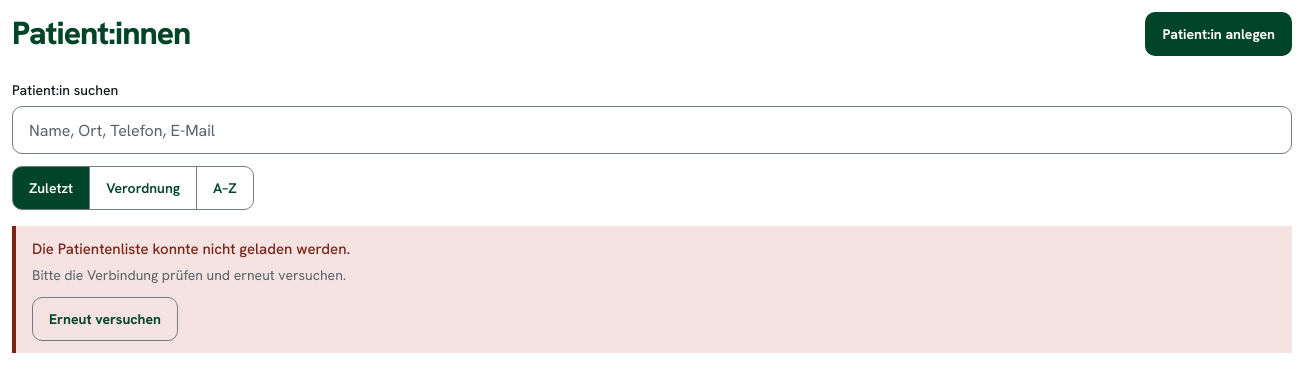
Test: PatientsListPage (B1, B10) › laedt die Liste nach einem Fehler auf Wunsch erneut (UIK-16)
Click the button "Erneut versuchen".
click(105, 318)  # box [32,296,178,340]
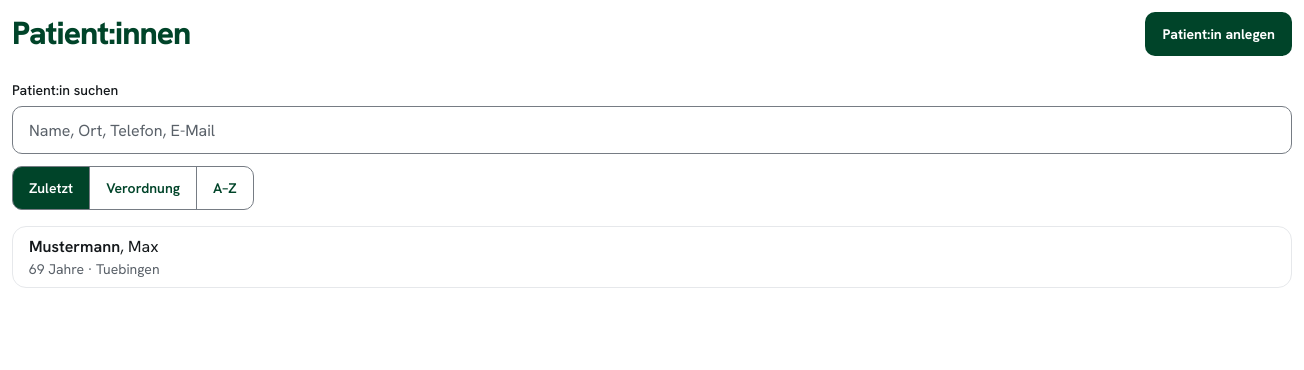
Expected: the link "Mustermann, Max 69 Jahre · Tuebingen" is shown, [29,236,160,278]
